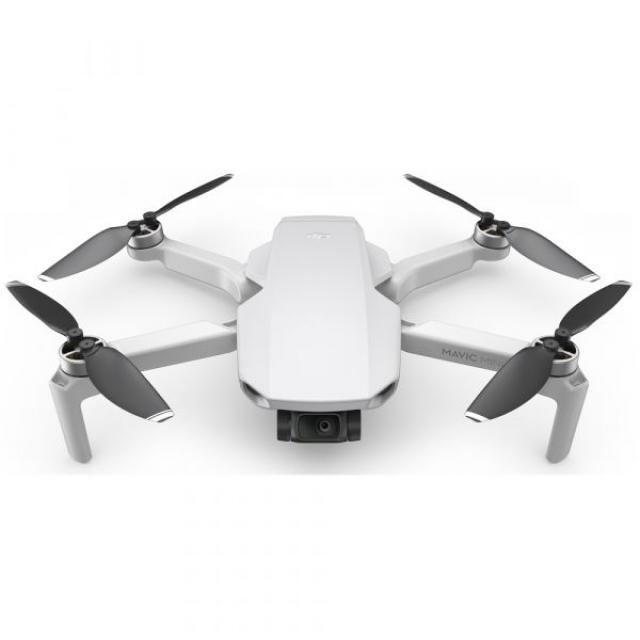drones: (7, 155, 634, 473)
